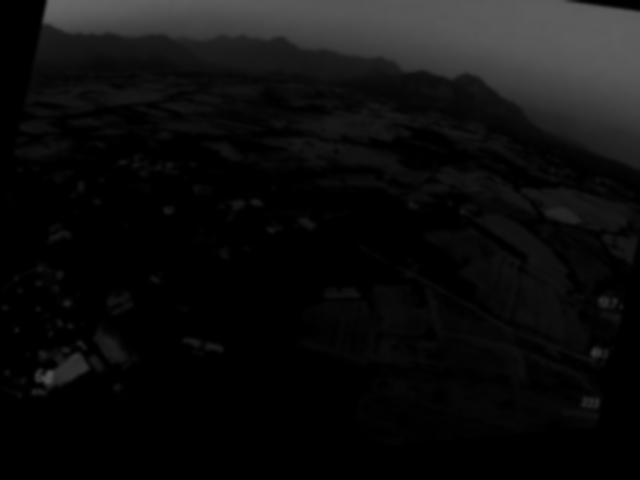hedef: (169, 325, 230, 374)
